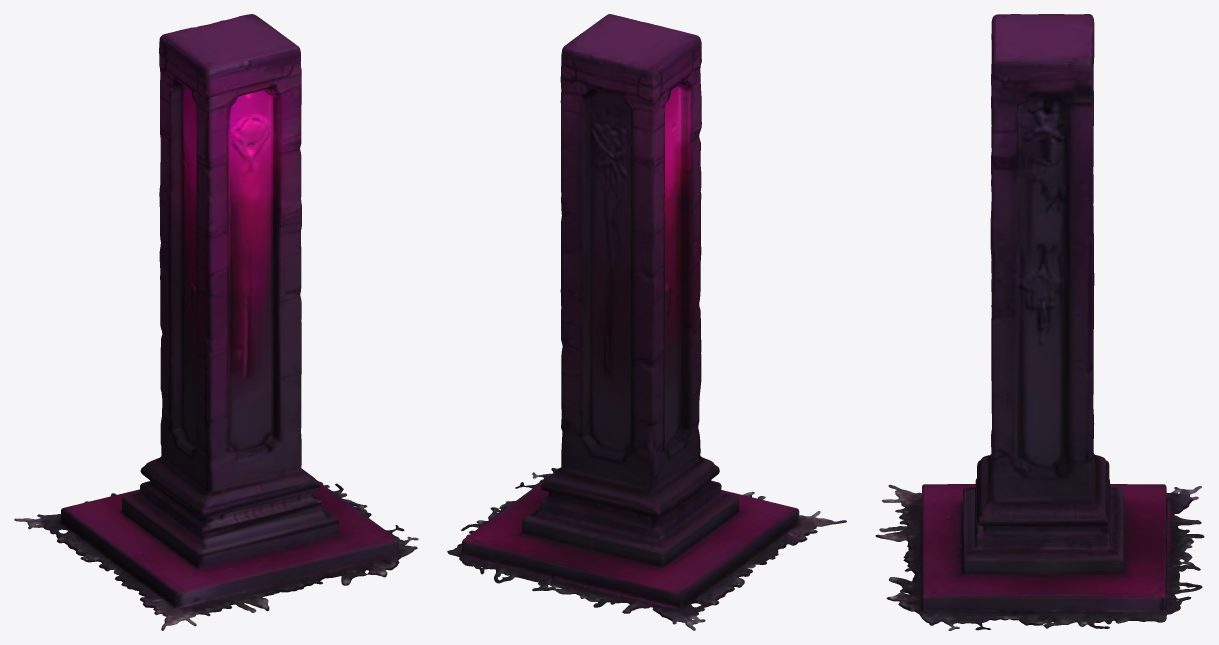
The model's file is weathered-monolith-pillar-generated-2026-04-19T23-39-39-599Z.low.glb.
The picture shows the model from 3 angles, left to right: view 1: azimuth 30°, elevation 25°; view 2: azimuth 150°, elevation 25°; view 3: azimuth 270°, elevation 25°; orthographic projection. The views are drawn at different scales.
Visible parts, largest first — view 1: temp_mesh.ply; view 2: temp_mesh.ply; view 3: temp_mesh.ply.
Part boxes in pixels (x1,y1,x2,y2): temp_mesh.ply: (14,14,418,630); temp_mesh.ply: (447,14,846,630); temp_mesh.ply: (875,14,1204,630).
Bounding box in the file's own units: 1.18 × 1.97 × 1.13.
1 material, 1 textured.
